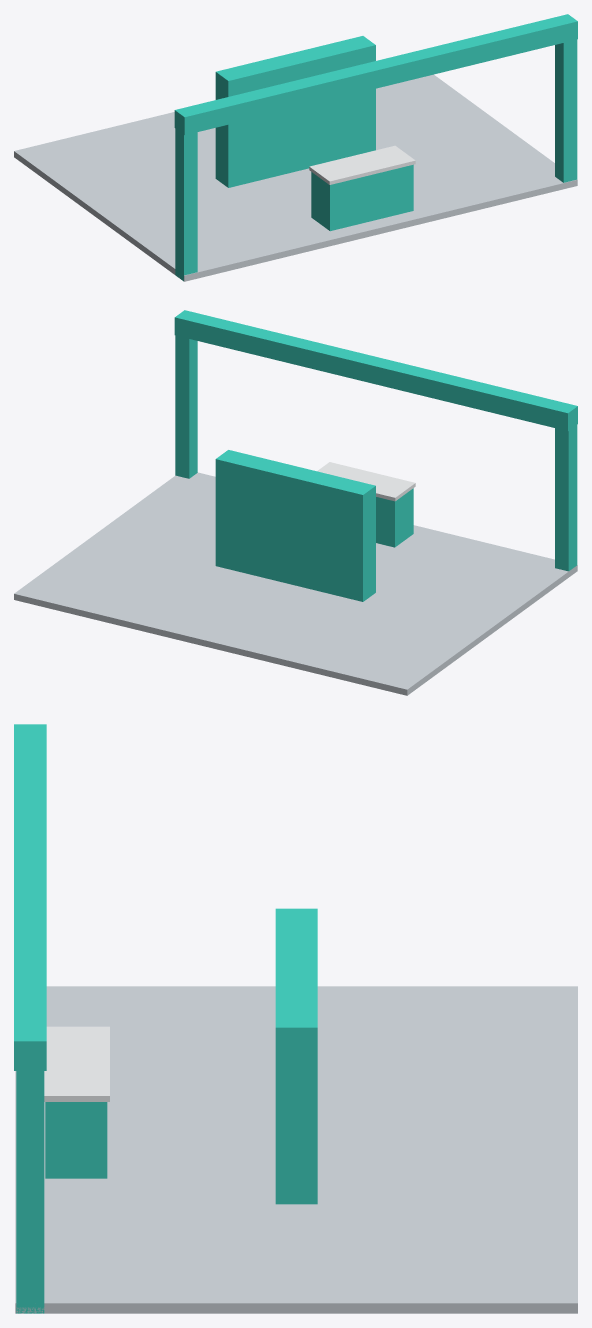
3 renders of one model, top to bottom at view 1: azimuth 30°, elevation 25°; view 2: azimuth 150°, elevation 25°; view 3: azimuth 270°, elevation 25°, orthographic. The views are drawn at different scales.
Visible parts, largest first — view 1: Exhibition Booth Concept; view 2: Exhibition Booth Concept; view 3: Exhibition Booth Concept.
Boxes of the visible parts, x1,y1,x2,y2 form: Exhibition Booth Concept: (14, 14, 577, 281); Exhibition Booth Concept: (14, 310, 577, 695); Exhibition Booth Concept: (14, 724, 577, 1313).
Bounding box in the file's own units: 8 × 3.2 × 6.02.
